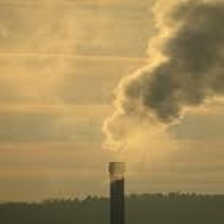smoke: (97, 1, 221, 140)
